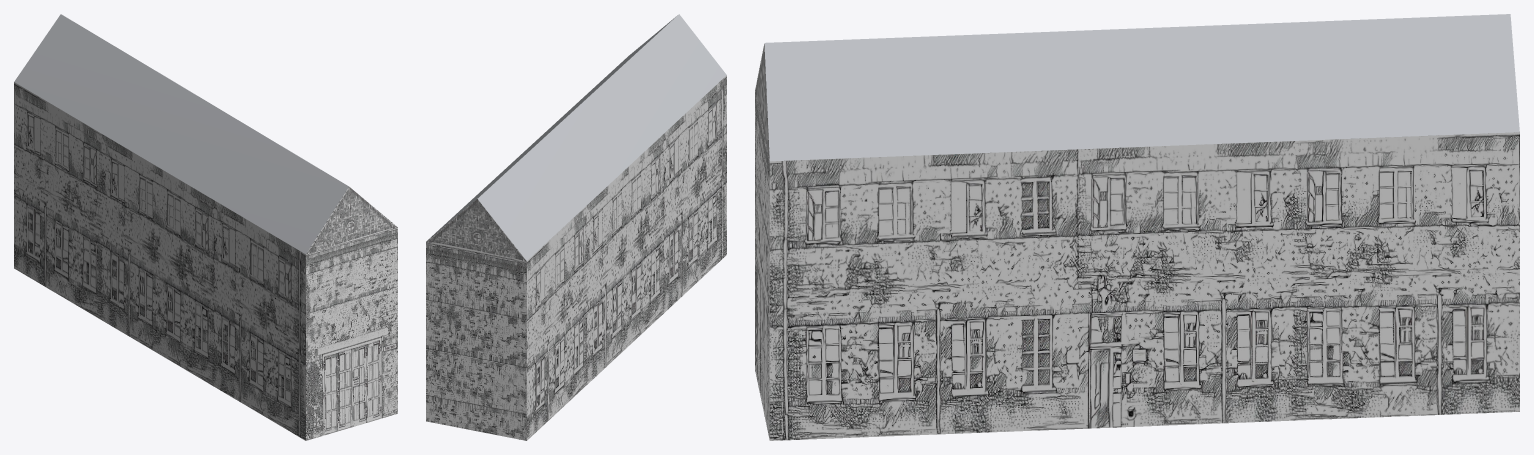
The model's file is Technische_Leitzentrale.gltf.
The picture shows the model from 3 angles, left to right: view 1: azimuth 30°, elevation 25°; view 2: azimuth 150°, elevation 25°; view 3: azimuth 270°, elevation 25°; orthographic projection. The views are drawn at different scales.
Visible parts, largest first — view 1: Dach.1; view 2: Dach.1; view 3: Dach.1.
Part boxes in pixels (x1,y1,x2,y2): Dach.1: [14, 14, 397, 440]; Dach.1: [426, 14, 726, 440]; Dach.1: [755, 14, 1519, 440].
Bounding box in the file's own units: 9.1 × 15.06 × 28.91.
Materials: 6 (5 with a texture image).
